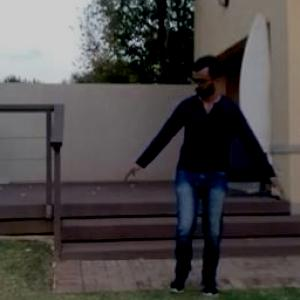land: (126, 42, 286, 297)
